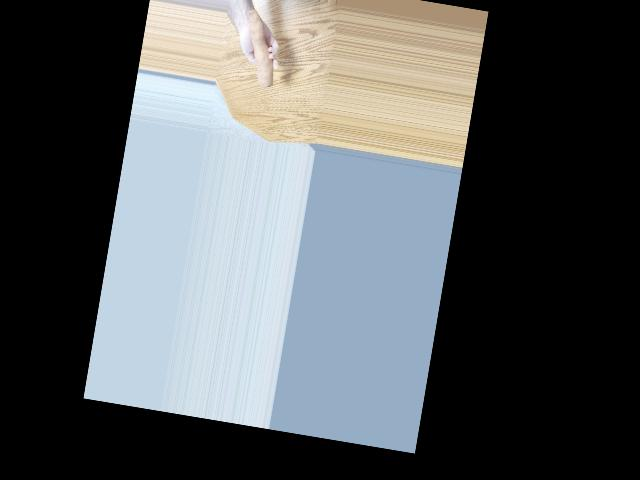sweet_potato: (234, 8, 285, 90)
